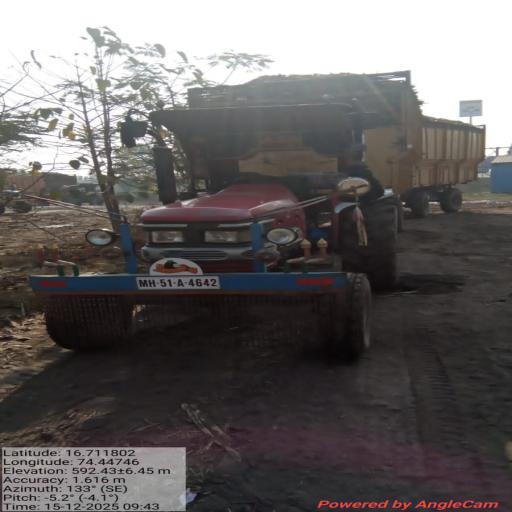number_plate: (123, 276, 228, 294)
